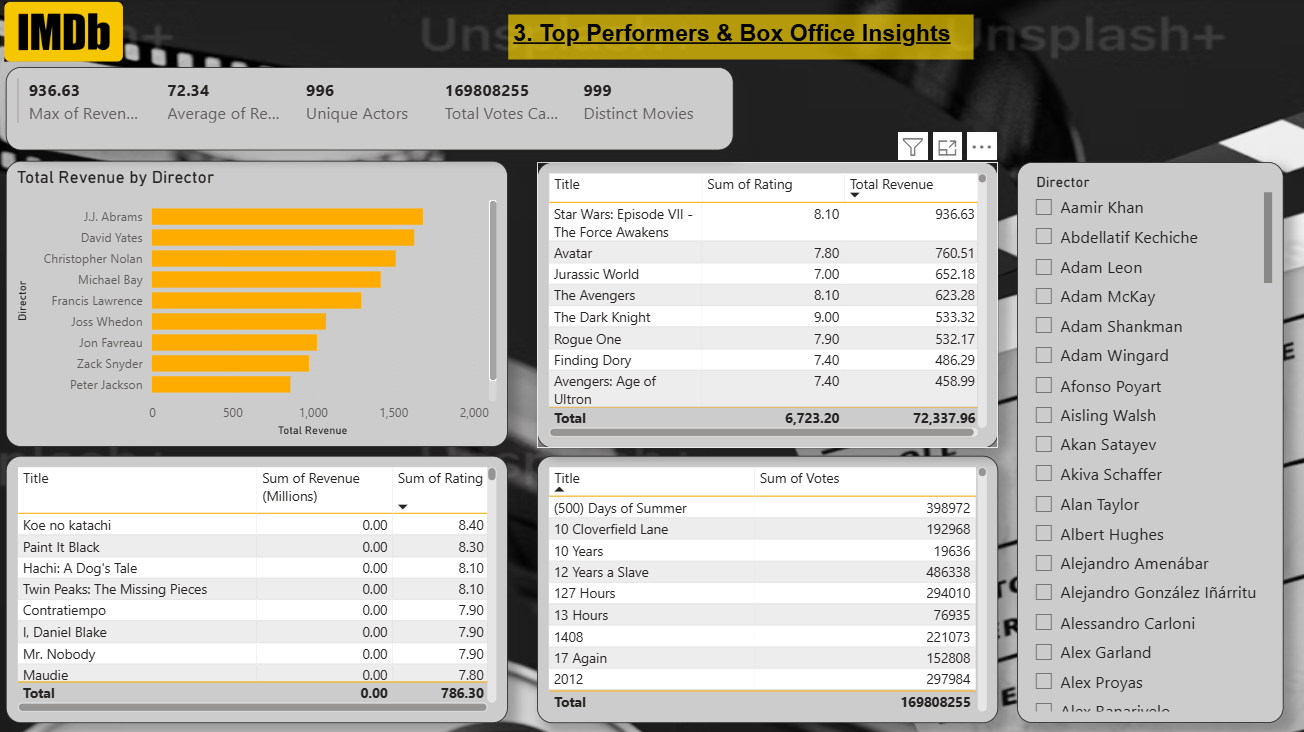

What the dashboard file says about the page in this screenshot:
{"tool":"powerbi","page":{"name":"Page 3","canvas":[1280,720],"ordinal":2},"visuals":[{"type":"barChart","fields":{"Category":["IMDB-Movie-Data.Director"],"Y":["IMDB-Movie-Data.Total Revenue"]},"box":[8.6,160.2,491.6,280],"z":0},{"type":"tableEx","fields":{"Values":["IMDB-Movie-Data.Title","IMDB-Movie-Data.Votes"]},"box":[528.3,448.8,451.2,261.7],"z":1000},{"type":"tableEx","fields":{"Values":["IMDB-Movie-Data.Title","IMDB-Movie-Data.Rating","IMDB-Movie-Data.Total Revenue"]},"box":[528.3,161.4,451.2,280],"z":2000},{"type":"tableEx","fields":{"Values":["IMDB-Movie-Data.Title","IMDB-Movie-Data.Revenue (Millions)","IMDB-Movie-Data.Rating"]},"box":[8.6,448.8,491.6,261.7],"z":3000},{"type":"multiRowCard","fields":{"Values":["IMDB-Movie-Data.Revenue (Millions)","IMDB-Movie-Data.Revenue (Millions)","IMDB-Movie-Data.Unique Actors","IMDB-Movie-Data.Total Votes Casted","IMDB-Movie-Data.Distinct Movies"]},"box":[8.6,68.5,711.7,81.9],"z":4000},{"type":"textbox","box":[500.1,17.1,454.9,44],"z":5000},{"type":"slicer","fields":{"Values":["IMDB-Movie-Data.Director"]},"box":[997.8,161.4,260.5,549.1],"z":6000},{"type":"image","box":[0,0,129.6,68.5],"z":7000}]}

Visuals, with their boxes in screenshot pixels (x1, y1, x2, y2), scaled from the page's 1280x720 canvas onto the 1304x732 screenshot:
barChart - IMDB-Movie-Data.Director x IMDB-Movie-Data.Total Revenue: <bbox>9, 163, 510, 448</bbox>
tableEx - IMDB-Movie-Data.Title x IMDB-Movie-Data.Votes: <bbox>538, 456, 998, 722</bbox>
tableEx - IMDB-Movie-Data.Title x IMDB-Movie-Data.Rating: <bbox>538, 164, 998, 449</bbox>
tableEx - IMDB-Movie-Data.Title x IMDB-Movie-Data.Revenue (Millions): <bbox>9, 456, 510, 722</bbox>
multiRowCard - IMDB-Movie-Data.Revenue (Millions) x IMDB-Movie-Data.Revenue (Millions): <bbox>9, 70, 734, 153</bbox>
textbox: <bbox>509, 17, 973, 62</bbox>
slicer - IMDB-Movie-Data.Director: <bbox>1017, 164, 1282, 722</bbox>
image: <bbox>0, 0, 132, 70</bbox>
